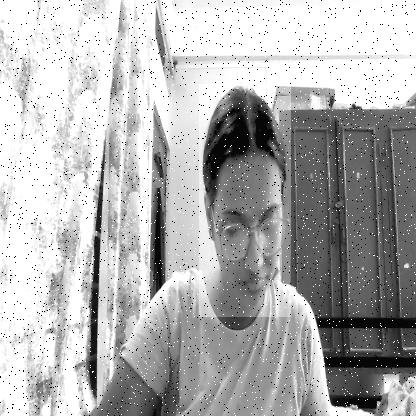Distracted: (199, 84, 291, 317)
